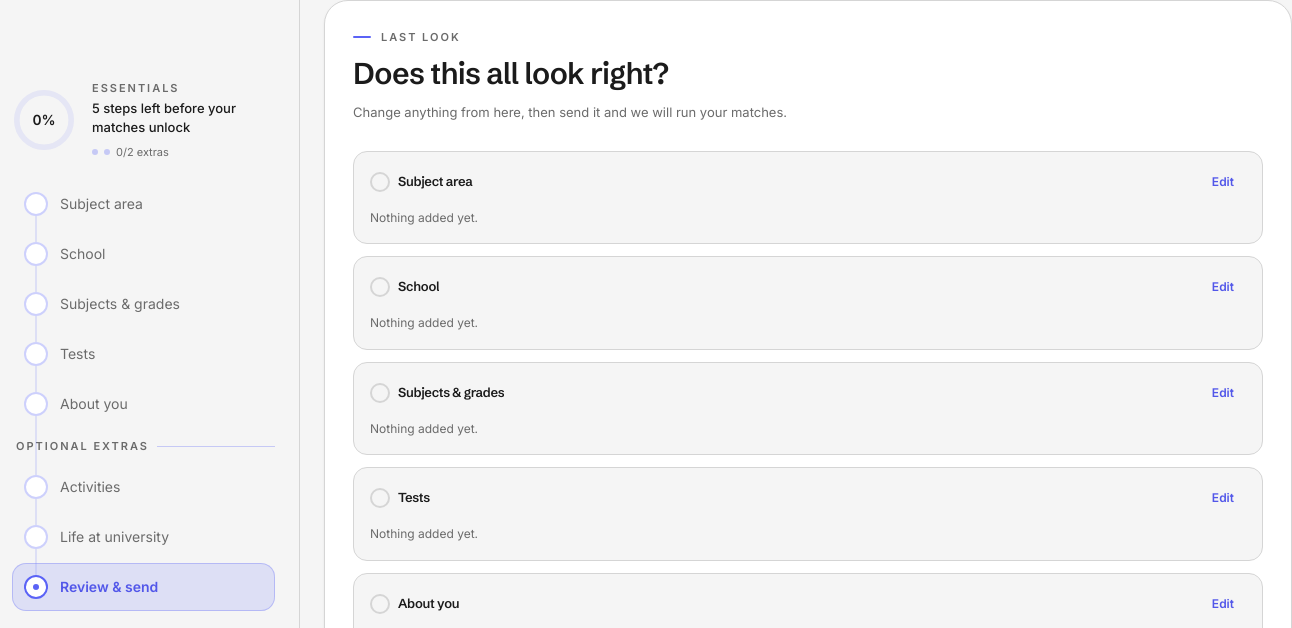
Test case: step navigation › Review's "Edit" links jump straight to their screen without validating
Click the 1st button "Edit" at (1223, 182), box [1200,160,1246,204]
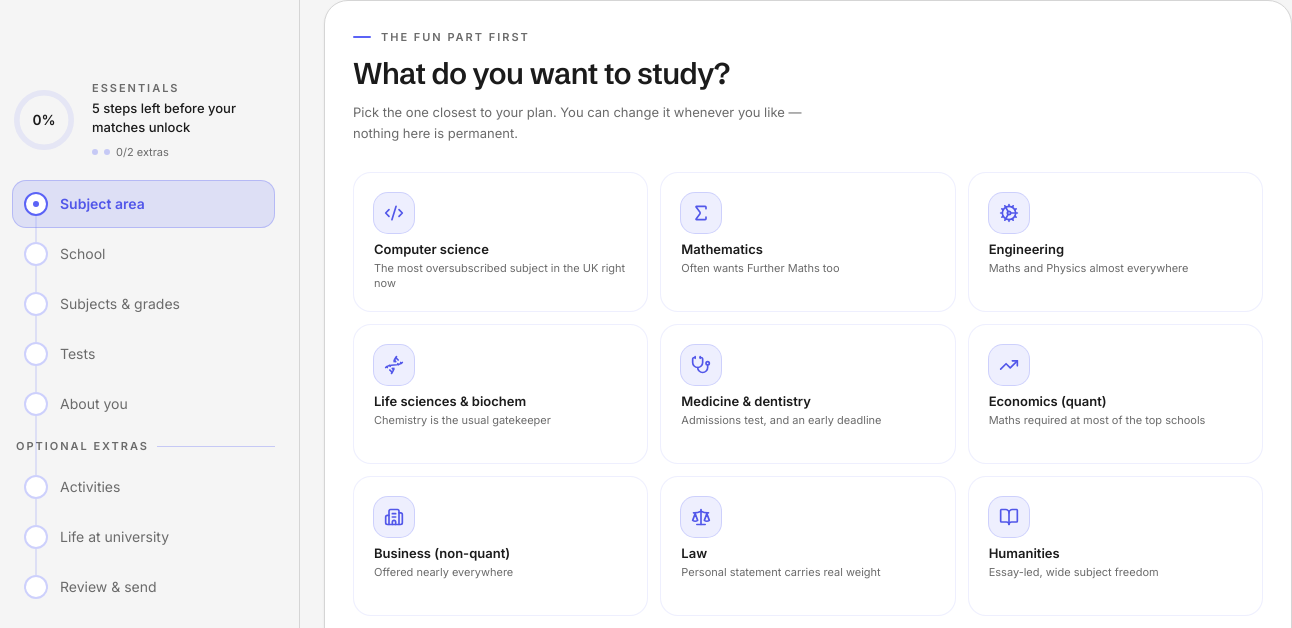
Check: the heading "What do you want to study?" is shown, box [353,54,730,92]
